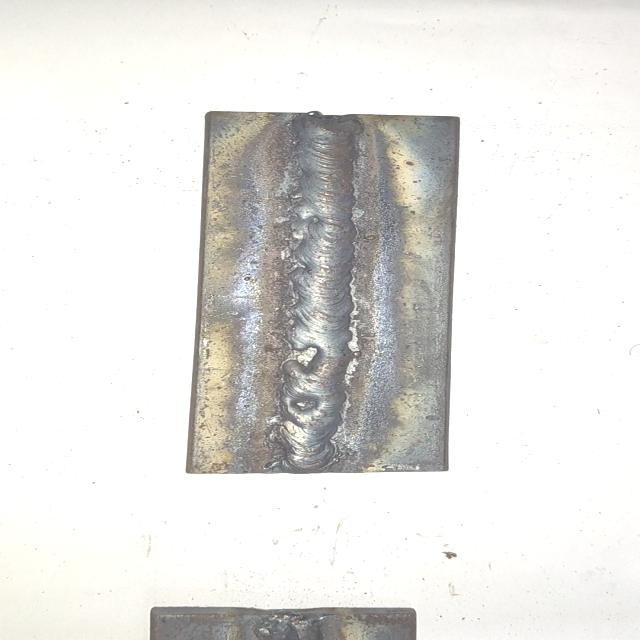Bad Weld: (270, 116, 360, 469)
Defect: (246, 338, 390, 412)
